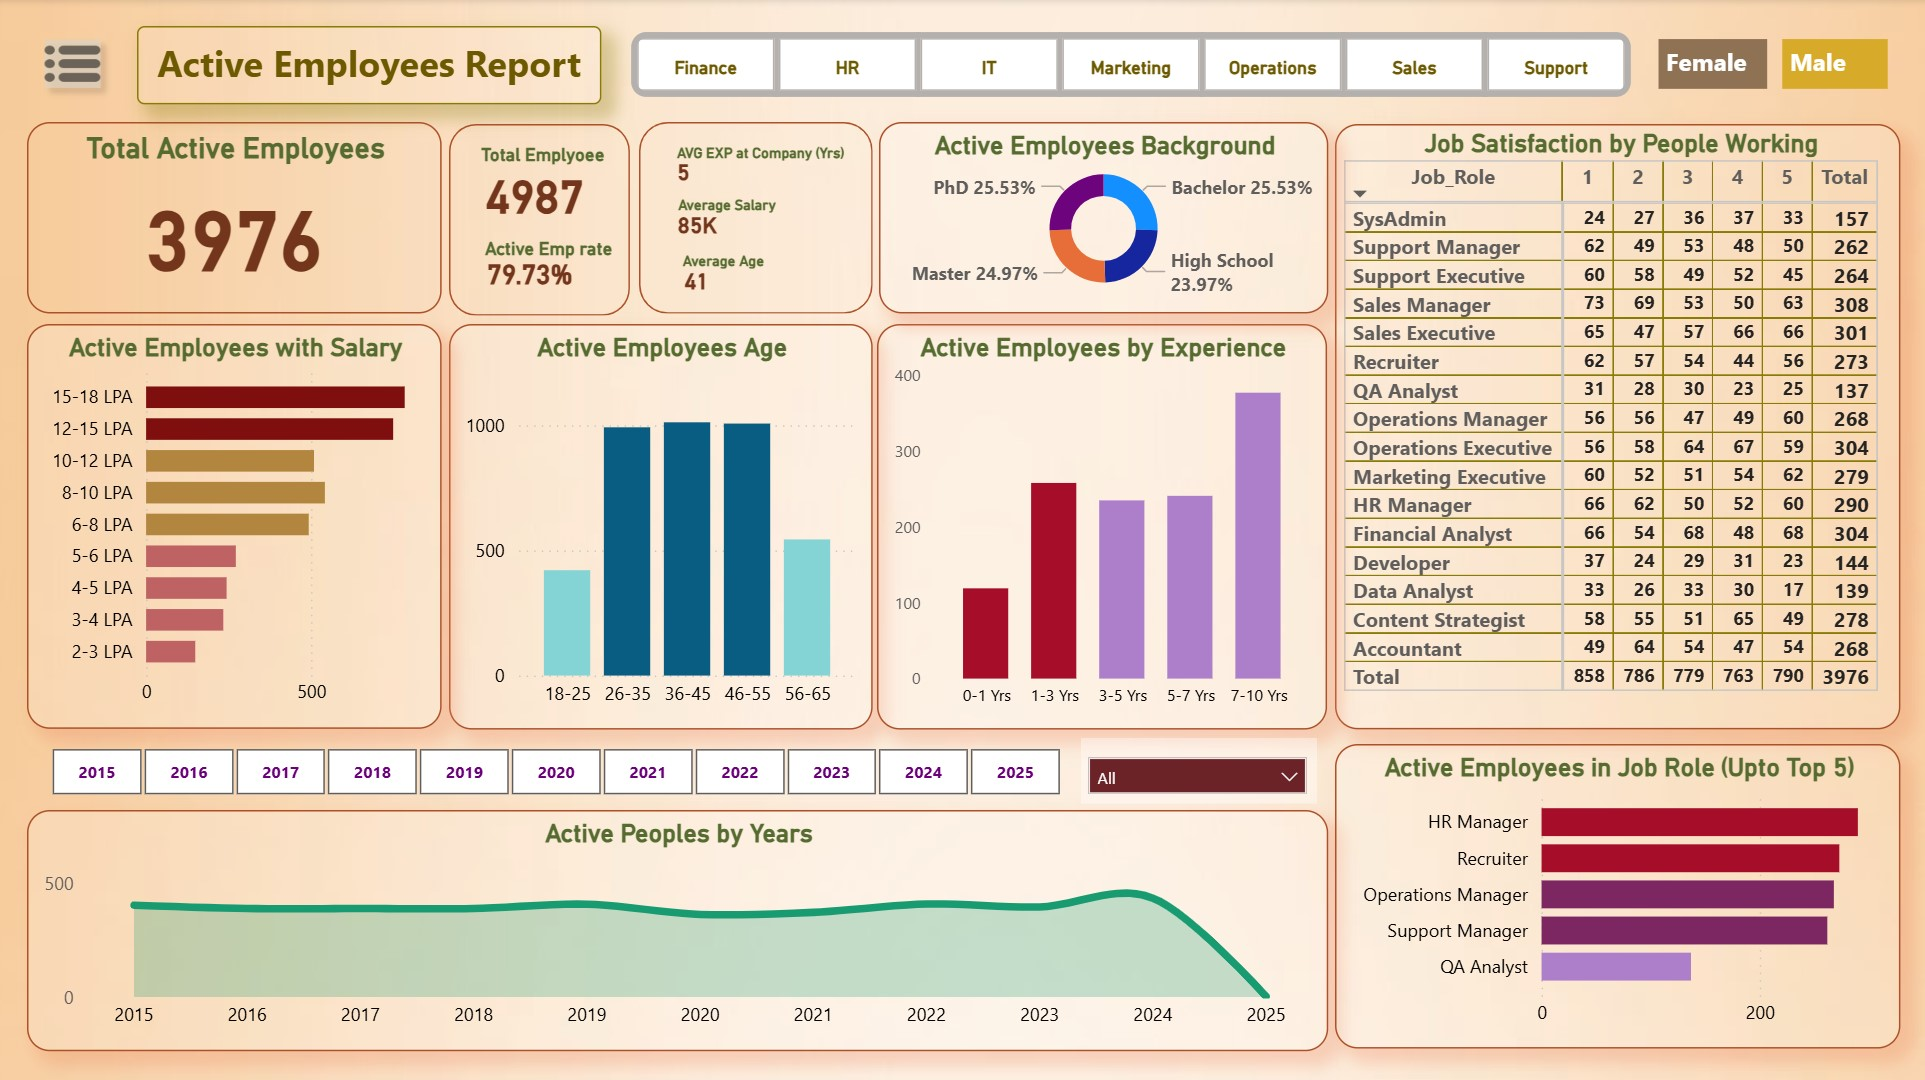

What the dashboard file says about the page in this screenshot:
{"tool":"powerbi","page":{"name":"Active Employee Details","canvas":[1280,720],"ordinal":2},"visuals":[{"type":"group","id":"g1","title":"Active Employee Details","box":[15.7,14.4,1248,683.6],"z":0},{"type":"actionButton","title":"Menu Open Button","box":[22,18,55,50],"z":0,"group":"g1"},{"type":"areaChart","title":"Active Peoples by Years","fields":{"Category":["Dataset 5000 Rows - Sheet1.Joining_Date.Variation.Date Hierarchy.Year"],"Y":["Sum(Dataset 5000 Rows - Sheet1.Active_Emp_Count)"]},"box":[20,538,862.9,160],"z":2000,"group":"g1"},{"type":"clusteredColumnChart","title":"Active Employees Age","fields":{"Category":["Dataset 5000 Rows - Sheet1.Age_Group"],"Y":["Sum(Dataset 5000 Rows - Sheet1.Active_Emp_Count)"]},"box":[299,216,280.8,269.2],"z":3000,"group":"g1"},{"type":"barChart","title":"Active Employees with Salary","fields":{"Y":["Sum(Dataset 5000 Rows - Sheet1.Active_Emp_Count)"],"Category":["Dataset 5000 Rows - Sheet1.Salary_Group"]},"box":[19.9,216,275,268.3],"z":4000,"group":"g1"},{"type":"barChart","title":"Active Employees in Job Role (Upto Top 5)","fields":{"Category":["Dataset 5000 Rows - Sheet1.Job_Role"],"Y":["Sum(Dataset 5000 Rows - Sheet1.Active_Emp_Count)"]},"box":[887.1,495.1,375,202.1],"z":5000,"group":"g1"},{"type":"card","title":"Total Emplyoee","fields":{"Values":["Dataset 5000 Rows - Sheet1.Total_Emp_Count"]},"box":[305.2,96.1,102.8,57.1],"z":6000,"group":"g1"},{"type":"textbox","box":[92.8,18.8,307.9,52.1],"z":7000,"group":"g1"},{"type":"lineStackedColumnComboChart","title":"Active Employees by Experience","fields":{"Y":["Sum(Dataset 5000 Rows - Sheet1.Active_Emp_Count)"],"Category":["Dataset 5000 Rows - Sheet1.Duration_by_Group"]},"box":[584,216,298.3,269.2],"z":8000,"group":"g1"},{"type":"card","title":"AVG EXP at Company (Yrs)","fields":{"Values":["Avg(Dataset 5000 Rows - Sheet1.Exp_at_cur_Com)"]},"box":[343.6,96.9,223.3,33.7],"z":9000,"group":"g1"},{"type":"treemap","title":"Gender","fields":{"Group":["Dataset 5000 Rows - Sheet1.Gender"],"Values":["Sum(Dataset 5000 Rows - Sheet1.Active_Emp_Count)"]},"box":[1096.4,17.3,162.1,55],"z":10000,"group":"g1"},{"type":"shape","box":[425.7,82.6,155,127.1],"z":11000,"group":"g1"},{"type":"advancedSlicerVisual","title":"Filter Dept","fields":{"Values":["Dataset 5000 Rows - Sheet1.Department"]},"box":[400,14.4,705,59.3],"z":12000,"group":"g1"},{"type":"donutChart","title":"Active Employees Background","fields":{"Series":["Dataset 5000 Rows - Sheet1.Last_Qualification"],"Y":["Sum(Dataset 5000 Rows - Sheet1.Active_Emp_Count)"]},"box":[584.3,82.6,297.9,127.1],"z":13000,"group":"g1"},{"type":"card","title":"Average Age","fields":{"Values":["Avg(Dataset 5000 Rows - Sheet1.Age)"]},"box":[413.4,168.9,99.8,34.6],"z":14000,"group":"g1"},{"type":"shape","box":[299.3,83.3,120,127.1],"z":15000,"group":"g1"},{"type":"card","title":"Total Active Employees","fields":{"Values":["Sum(Dataset 5000 Rows - Sheet1.Active_Emp_Count)"]},"box":[20,82.6,275,127.1],"z":16000,"group":"g1"},{"type":"card","title":"Active Emp rate","fields":{"Values":["Dataset 5000 Rows - Sheet1.Active_Emp_rate"]},"box":[292.8,159.4,120,41.1],"z":17000,"group":"g1"},{"type":"slicer","title":"Filter by Years","fields":{"Values":["Dataset 5000 Rows - Sheet1.Joining_Date.Variation.Date Hierarchy.Year"]},"box":[15.7,487.7,710,50],"z":18000,"group":"g1"},{"type":"slicer","title":"Filter by Months","fields":{"Values":["Dataset 5000 Rows - Sheet1.Joining_Date.Variation.Date Hierarchy.Month"]},"box":[718.2,491,156.7,43.3],"z":19000,"group":"g1"},{"type":"card","title":"Average Salary","fields":{"Values":["Avg(Dataset 5000 Rows - Sheet1.Monthly_Salary)"]},"box":[407.1,131.5,114.4,34.6],"z":20000,"group":"g1"},{"type":"pivotTable","title":"Job Satisfaction by People Working","fields":{"Columns":["Dataset 5000 Rows - Sheet1.Job_Satisfaction"],"Rows":["Dataset 5000 Rows - Sheet1.Job_Role"],"Values":["Sum(Dataset 5000 Rows - Sheet1.Active_Emp_Count)"]},"box":[887.5,82.5,376.2,402.5],"z":20500,"group":"g1"}]}

Visuals, with their boxes in screenshot pixels (x1, y1, x2, y2), scaled from the page's 1280x720 canvas onto the 1925x1080 screenshot:
"Active Employee Details" group: 24, 22, 1900, 1047
"Menu Open Button" actionButton: 33, 27, 116, 102
"Active Peoples by Years" areaChart: 30, 807, 1328, 1047
"Active Employees Age" clusteredColumnChart: 450, 324, 872, 728
"Active Employees with Salary" barChart: 30, 324, 444, 726
"Active Employees in Job Role (Upto Top 5)" barChart: 1334, 743, 1898, 1046
"Total Emplyoee" card: 459, 144, 614, 230
textbox: 140, 28, 603, 106
"Active Employees by Experience" lineStackedColumnComboChart: 878, 324, 1327, 728
"AVG EXP at Company (Yrs)" card: 517, 145, 853, 196
"Gender" treemap: 1649, 26, 1893, 108
shape: 640, 124, 873, 315
"Filter Dept" advancedSlicerVisual: 602, 22, 1662, 111
"Active Employees Background" donutChart: 879, 124, 1327, 315
"Average Age" card: 622, 253, 772, 305
shape: 450, 125, 631, 316
"Total Active Employees" card: 30, 124, 444, 315
"Active Emp rate" card: 440, 239, 621, 301
"Filter by Years" slicer: 24, 732, 1091, 807
"Filter by Months" slicer: 1080, 736, 1316, 801
"Average Salary" card: 612, 197, 784, 249
"Job Satisfaction by People Working" pivotTable: 1335, 124, 1900, 728
